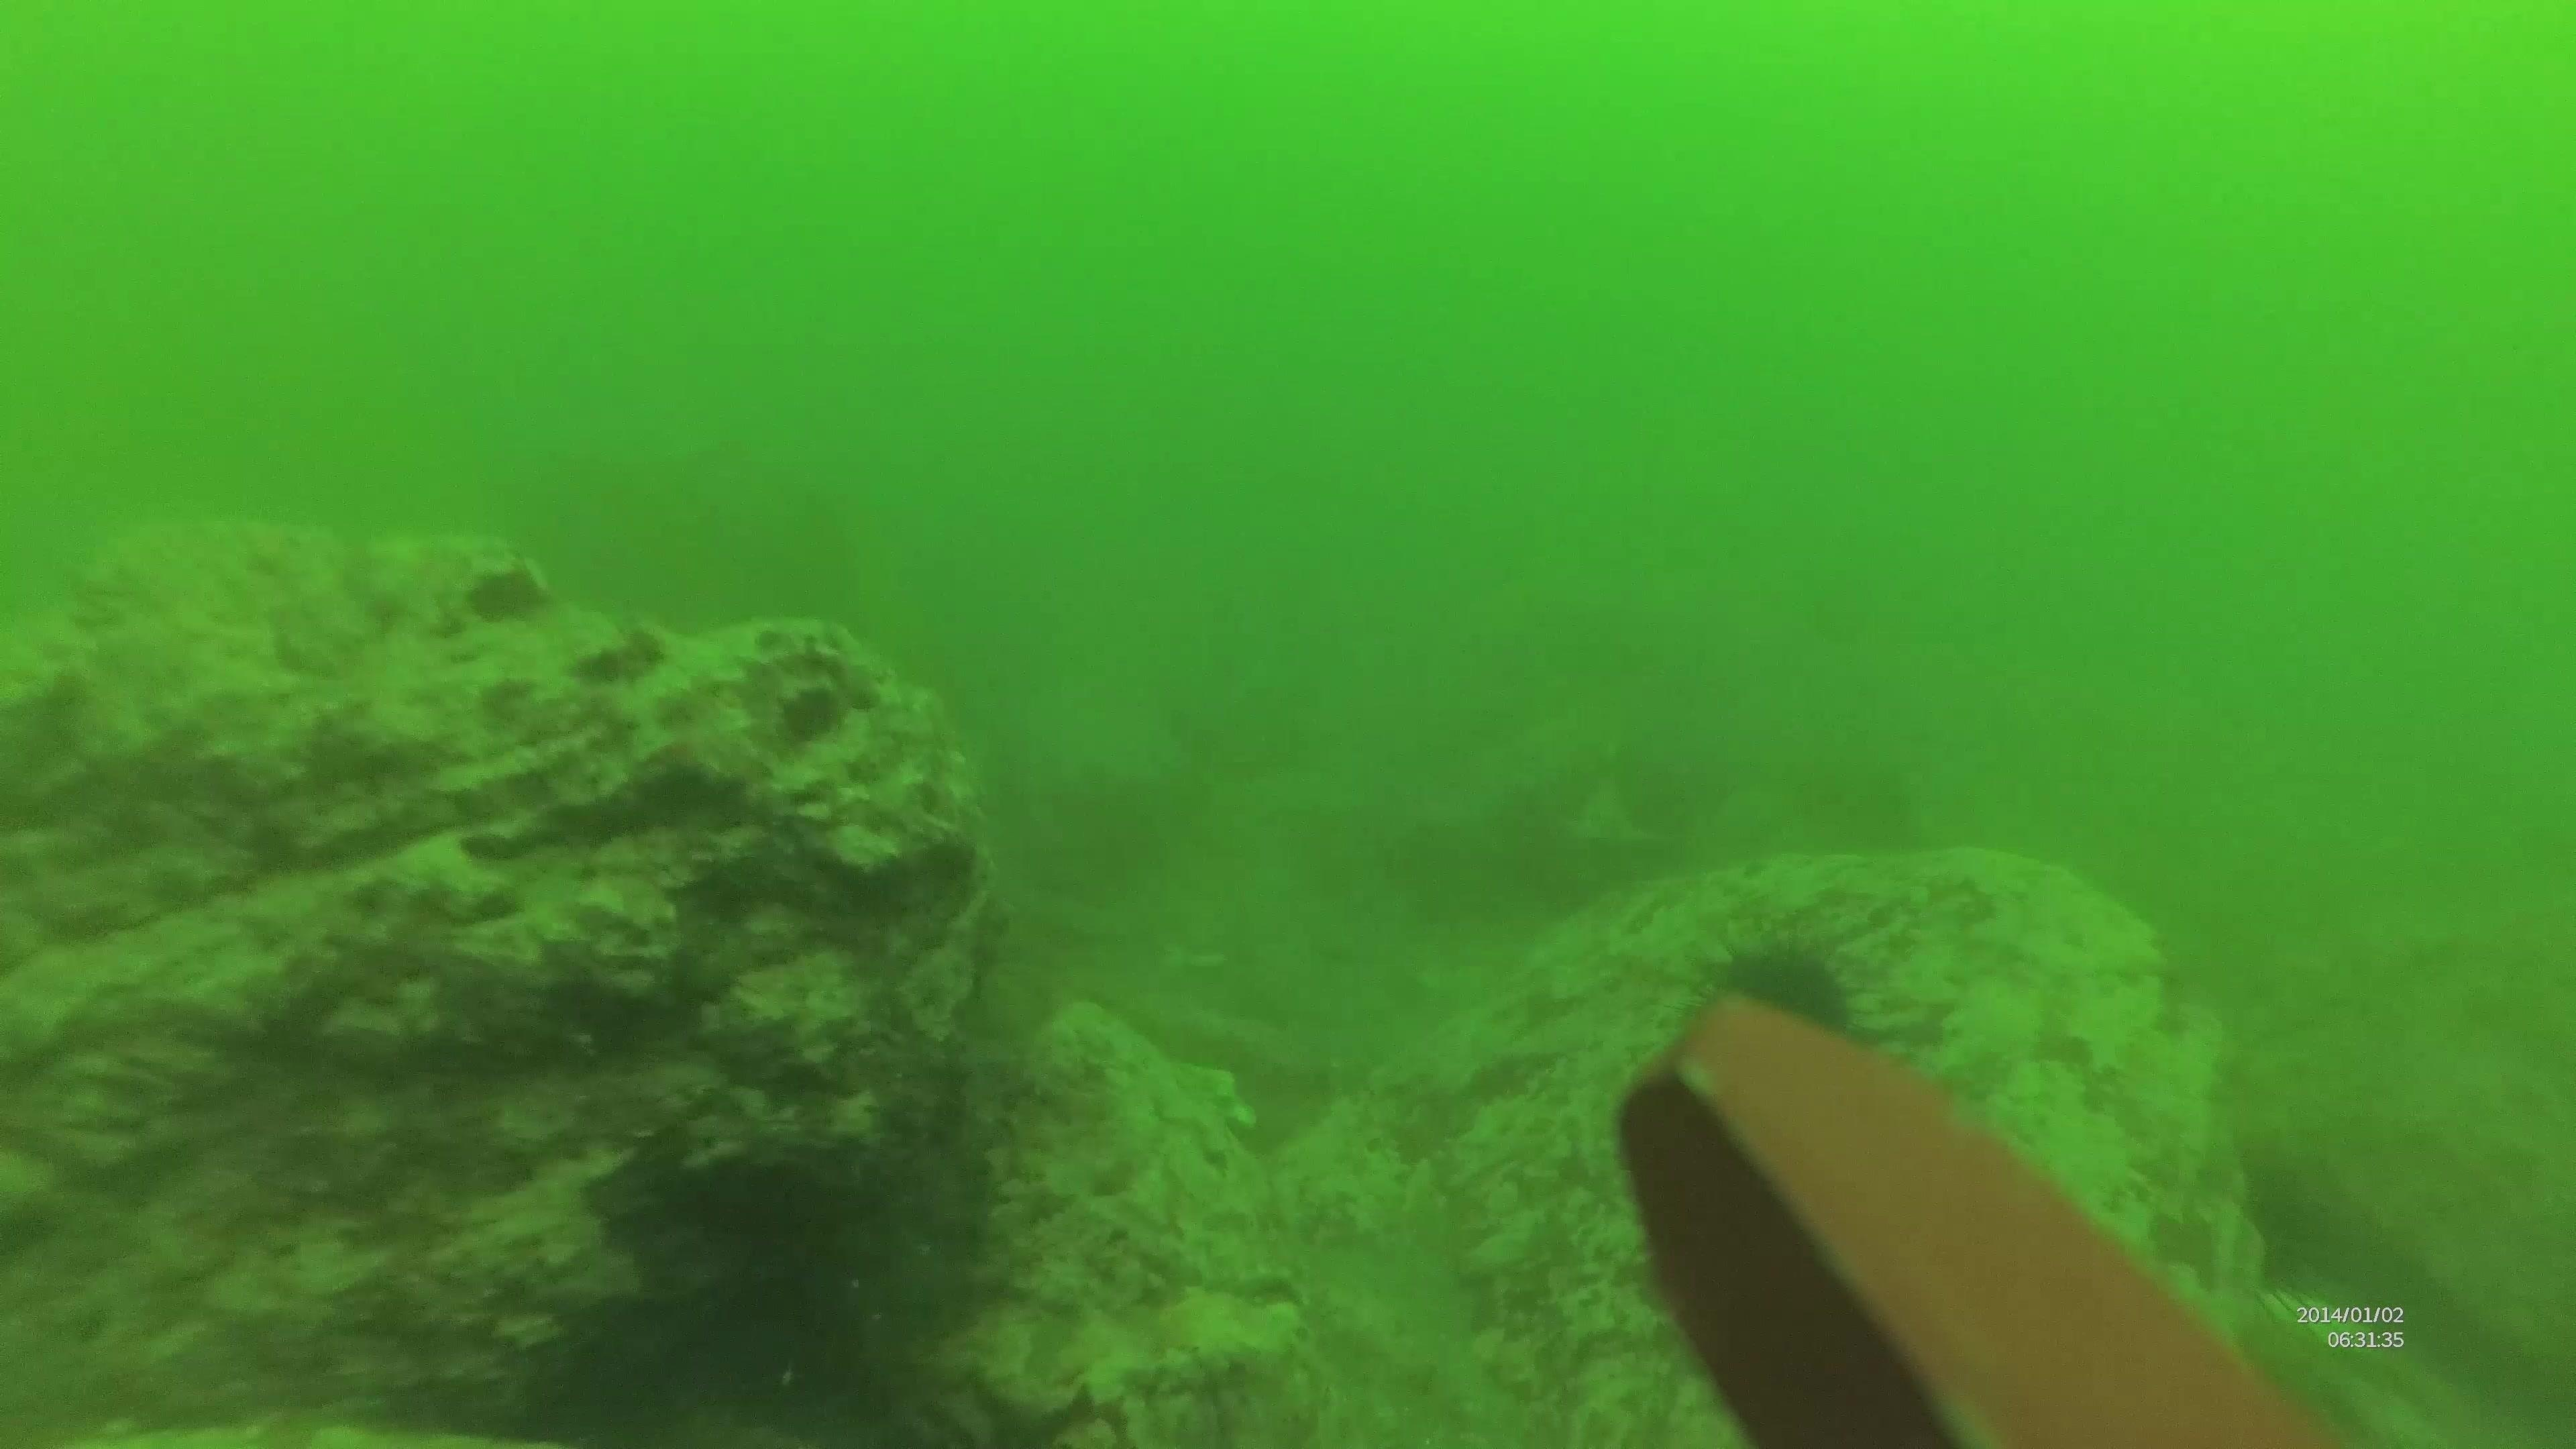echinus: (1665, 927, 1888, 1099)
